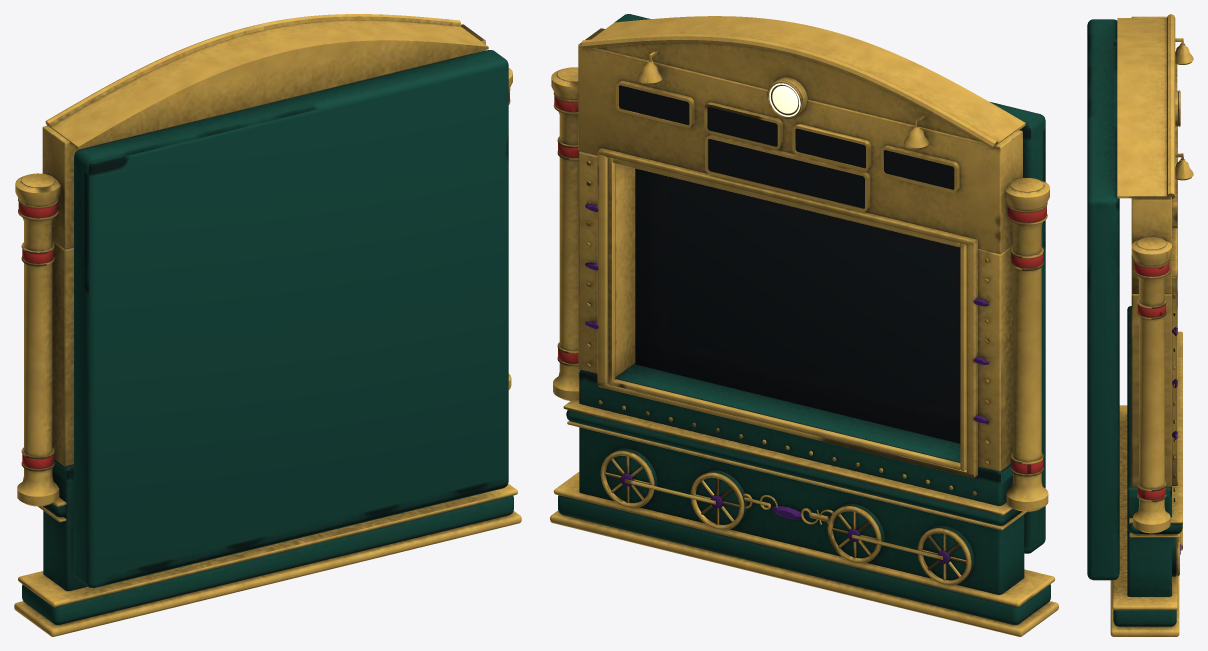
The picture shows the model from 3 angles, left to right: view 1: azimuth 30°, elevation 25°; view 2: azimuth 150°, elevation 25°; view 3: azimuth 270°, elevation 25°; orthographic projection. The views are drawn at different scales.
Parts seen in each view (by area): view 1: Locomotive_green, Polished_brass, Red_stack_enamel; view 2: Polished_brass, Uniform_dark_inset, Locomotive_green, Red_stack_enamel, Royal_purple_enamel, Headlamp_warm_glow; view 3: Polished_brass, Locomotive_green, Red_stack_enamel.
Part boxes in pixels (x1=…): Locomotive_green: x1=22, y1=50, x2=513, y2=624; Polished_brass: x1=14, y1=14, x2=521, y2=636; Red_stack_enamel: x1=18, y1=91, x2=509, y2=468; Polished_brass: x1=550, y1=16, x2=1058, y2=636; Uniform_dark_inset: x1=619, y1=85, x2=960, y2=443; Locomotive_green: x1=558, y1=14, x2=1050, y2=624; Red_stack_enamel: x1=554, y1=96, x2=1046, y2=474; Royal_purple_enamel: x1=585, y1=204, x2=989, y2=563; Headlamp_warm_glow: x1=769, y1=83, x2=800, y2=116; Polished_brass: x1=1110, y1=14, x2=1193, y2=636; Locomotive_green: x1=1087, y1=19, x2=1182, y2=626; Red_stack_enamel: x1=1134, y1=262, x2=1169, y2=499.
Size of the model in its own units: 9.7 by 10 by 2.05.
Materials: 6 (5 with a texture image).
